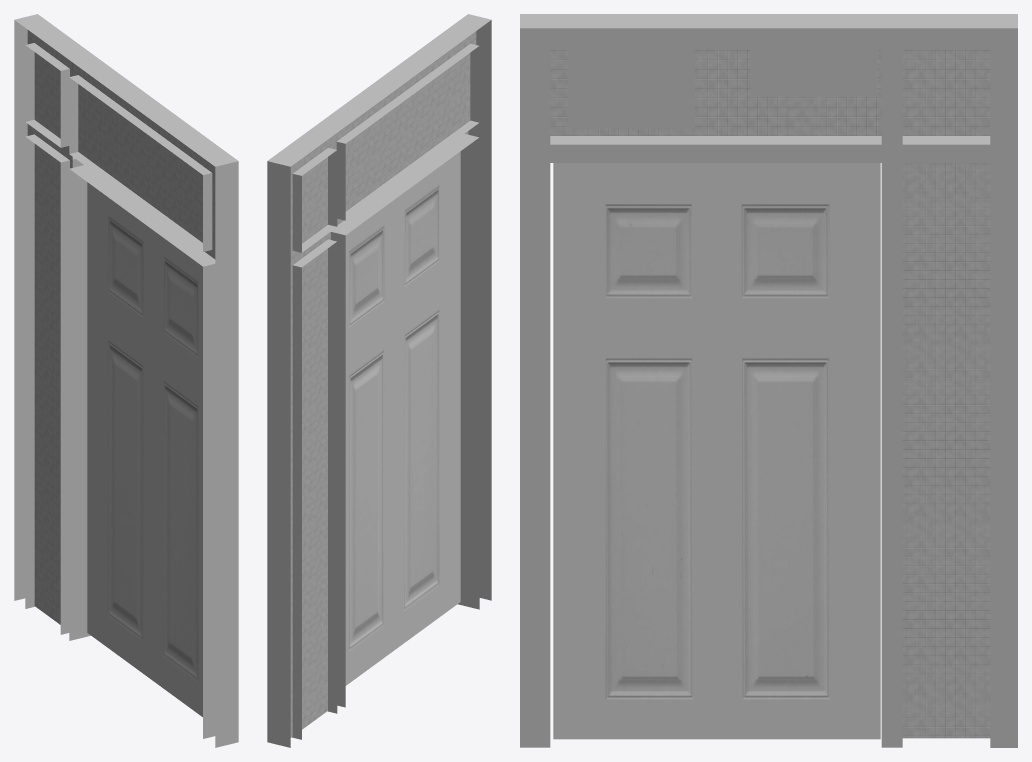
Rendered from Door.FBX.
3 renders of one model, left to right at view 1: azimuth 30°, elevation 25°; view 2: azimuth 150°, elevation 25°; view 3: azimuth 270°, elevation 25°, orthographic. The views are drawn at different scales.
Visible parts, largest first — view 1: DoorWay, Door, Doorway_Glass; view 2: DoorWay, Door, Doorway_Glass; view 3: Door, DoorWay, Doorway_Glass, Poster_012, Poster_011.
Boxes of the visible parts, x1=… form: DoorWay: x1=14, y1=14, x2=238, y2=747; Door: x1=87, y1=182, x2=202, y2=716; Doorway_Glass: x1=27, y1=30, x2=215, y2=624; DoorWay: x1=267, y1=14, x2=491, y2=747; Door: x1=345, y1=151, x2=460, y2=685; Doorway_Glass: x1=290, y1=31, x2=476, y2=737; Door: x1=553, y1=163, x2=880, y2=739; DoorWay: x1=520, y1=14, x2=1017, y2=747; Doorway_Glass: x1=550, y1=49, x2=990, y2=738; Poster_012: x1=568, y1=49, x2=694, y2=128; Poster_011: x1=750, y1=49, x2=876, y2=96.
Bounding box in the file's own units: 2.98 × 70.52 × 44.2.
